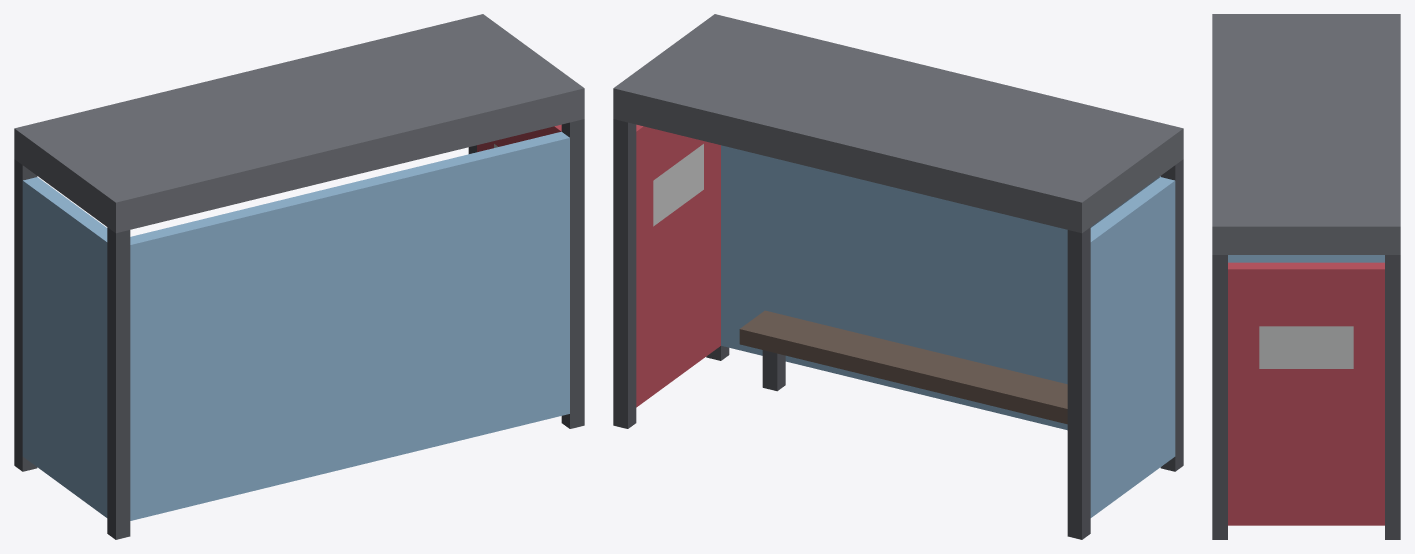
File: abribus.glb
3 renders of one model, left to right at view 1: azimuth 30°, elevation 25°; view 2: azimuth 150°, elevation 25°; view 3: azimuth 270°, elevation 25°, orthographic. The views are drawn at different scales.
Visible parts, largest first — view 1: main; view 2: main; view 3: main.
Boxes of the visible parts, box(x1,y1,x2,y2) form: main: box(14, 14, 584, 539); main: box(613, 14, 1183, 539); main: box(1212, 14, 1400, 539).
Bounding box in the file's own units: 4 × 2.75 × 1.5.
